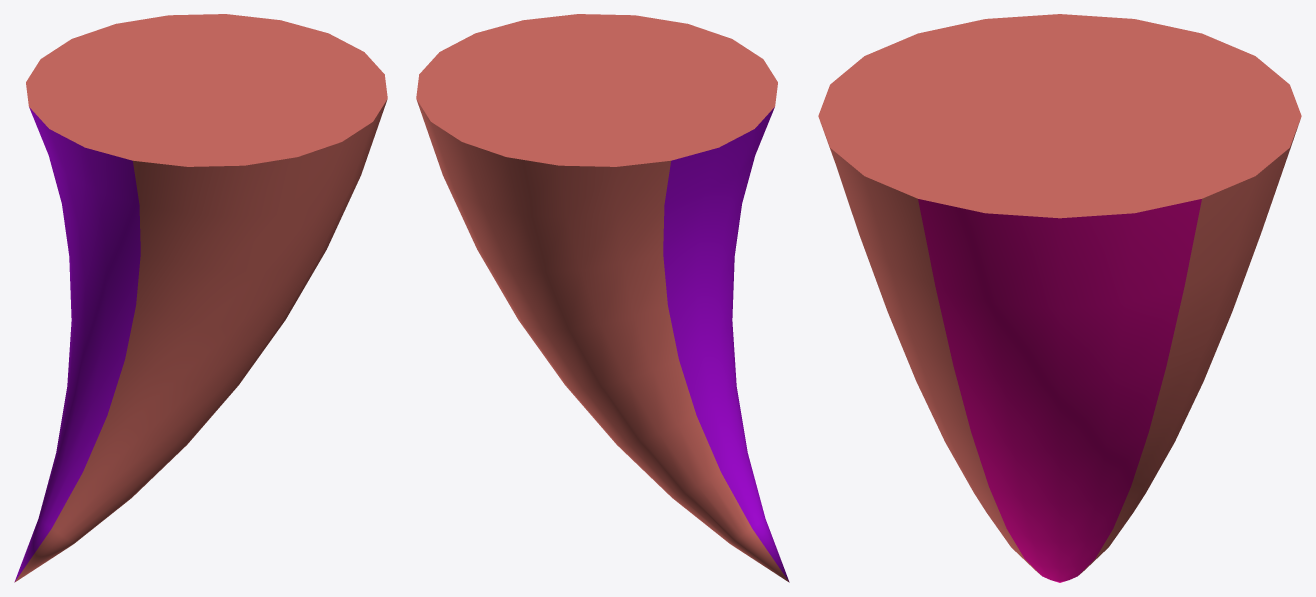
Rendered from br-m-fangR-purple.fbx.
The picture shows the model from 3 angles, left to right: view 1: azimuth 30°, elevation 25°; view 2: azimuth 150°, elevation 25°; view 3: azimuth 270°, elevation 25°; orthographic projection. The views are drawn at different scales.
Visible parts, largest first — view 1: pCone6; view 2: pCone6; view 3: pCone6.
Boxes of the visible parts, <box> form: pCone6: <box>14,14,387,582</box>; pCone6: <box>416,14,789,582</box>; pCone6: <box>818,14,1301,582</box>.
Size of the model in its own units: 1.53 by 1.86 by 1.38.
